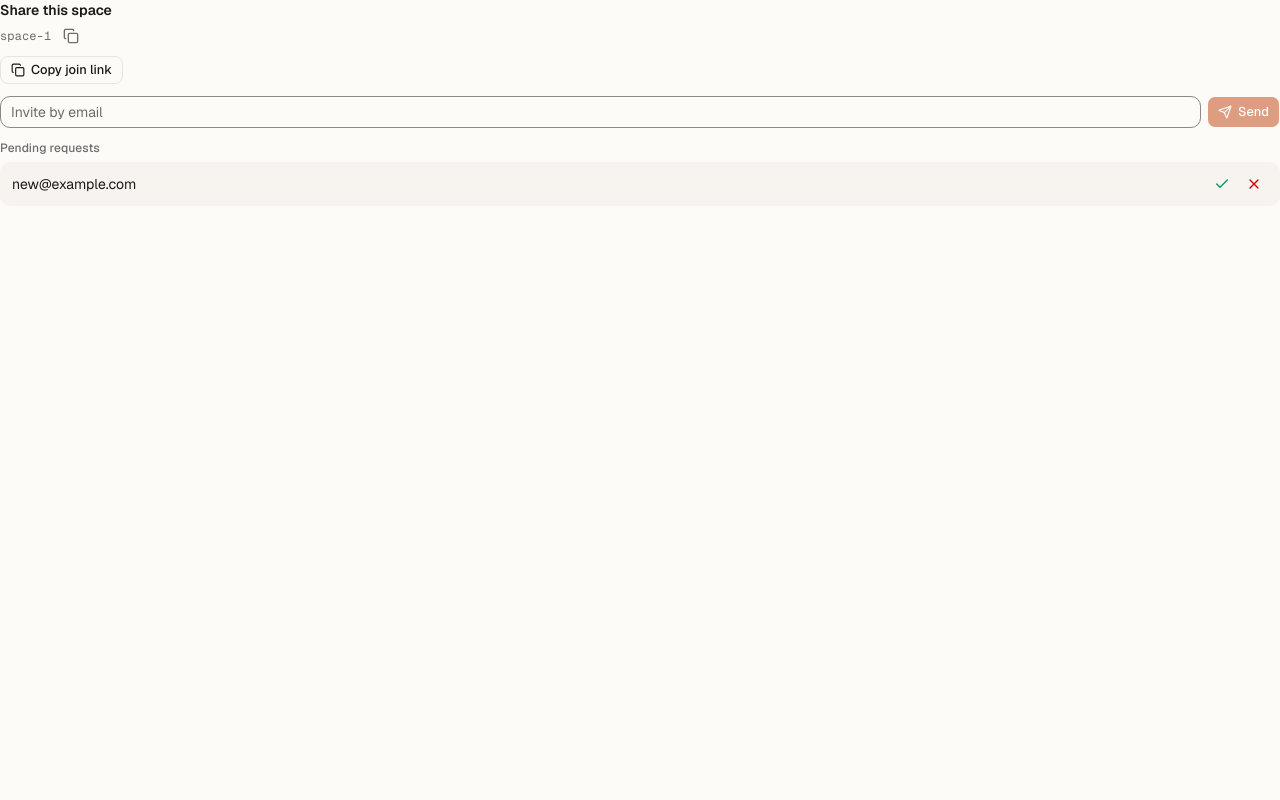
Test: SpaceSharingSection confirm popups › rejects a request only after a confirm, and closes once the server says yes
Click the button named "Reject request": (1254, 184) [1240,170,1268,198]
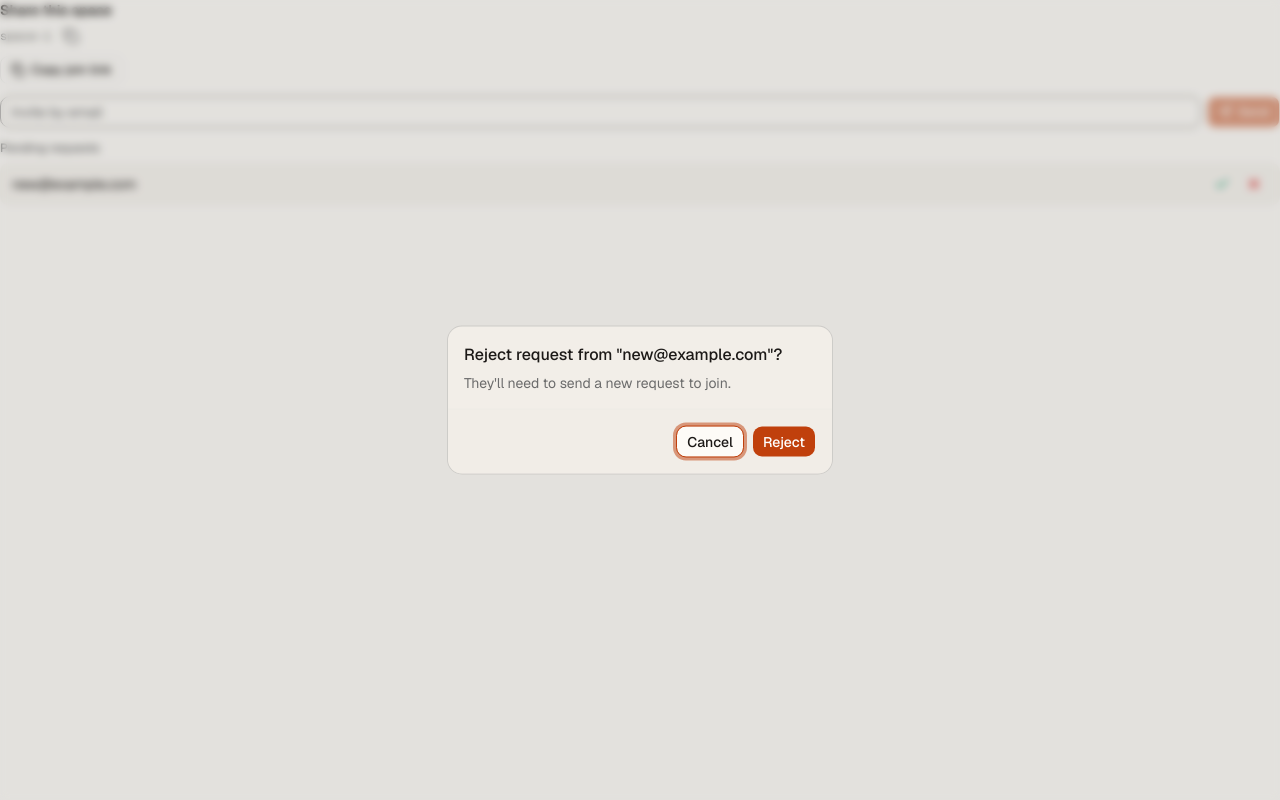
Now the heading "Reject request from \"new@example.com\"?" is shown, box [464,342,782,366]
Now the text "They'll need to send a new request to join." is shown, box [464,372,731,392]
Click the button "Reject": (784, 442) [752,426,816,458]
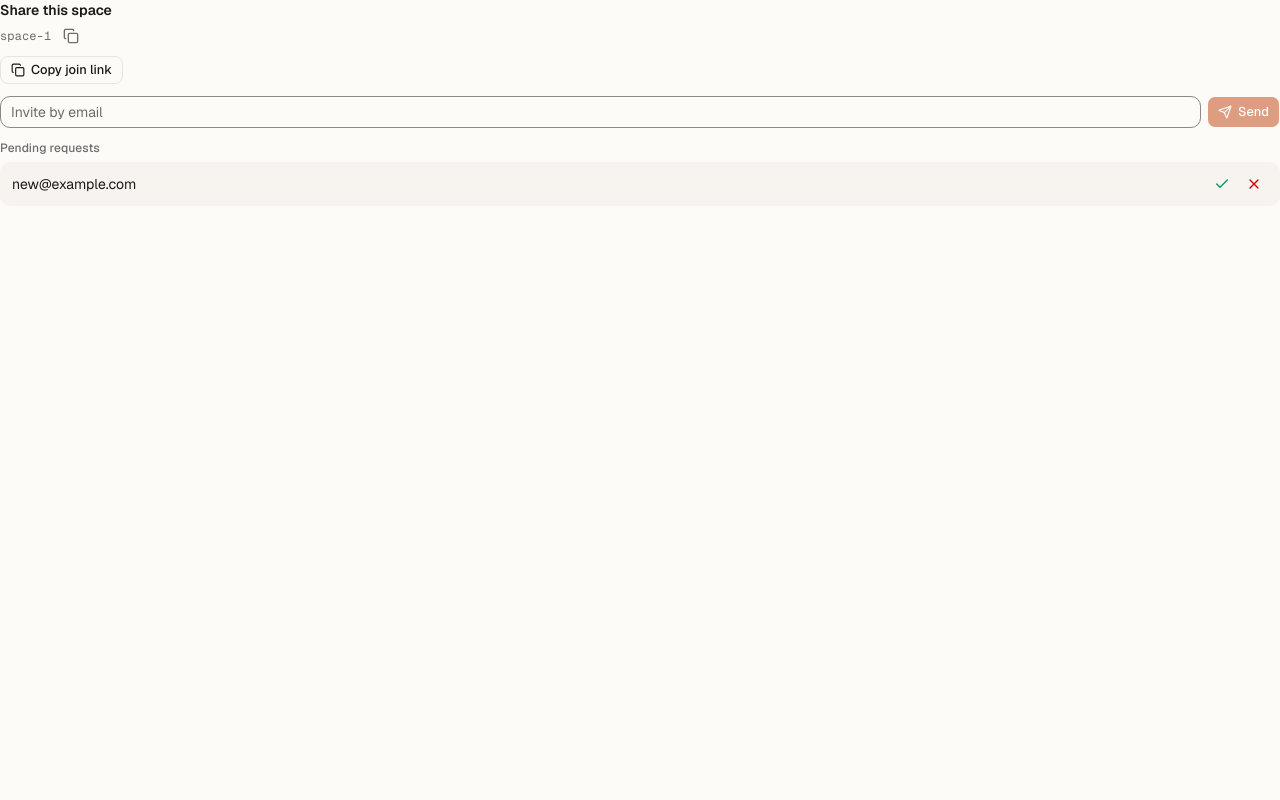
Now the heading "Reject request from \"new@example.com\"?" is gone
